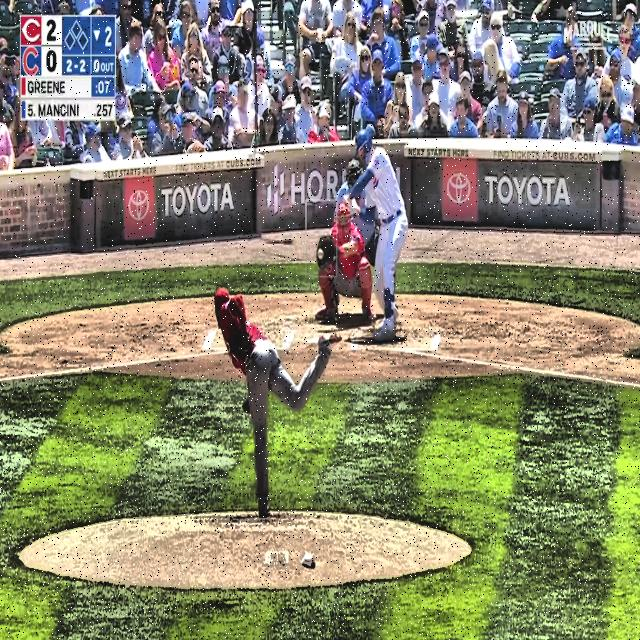baseball: (317, 248, 324, 260)
